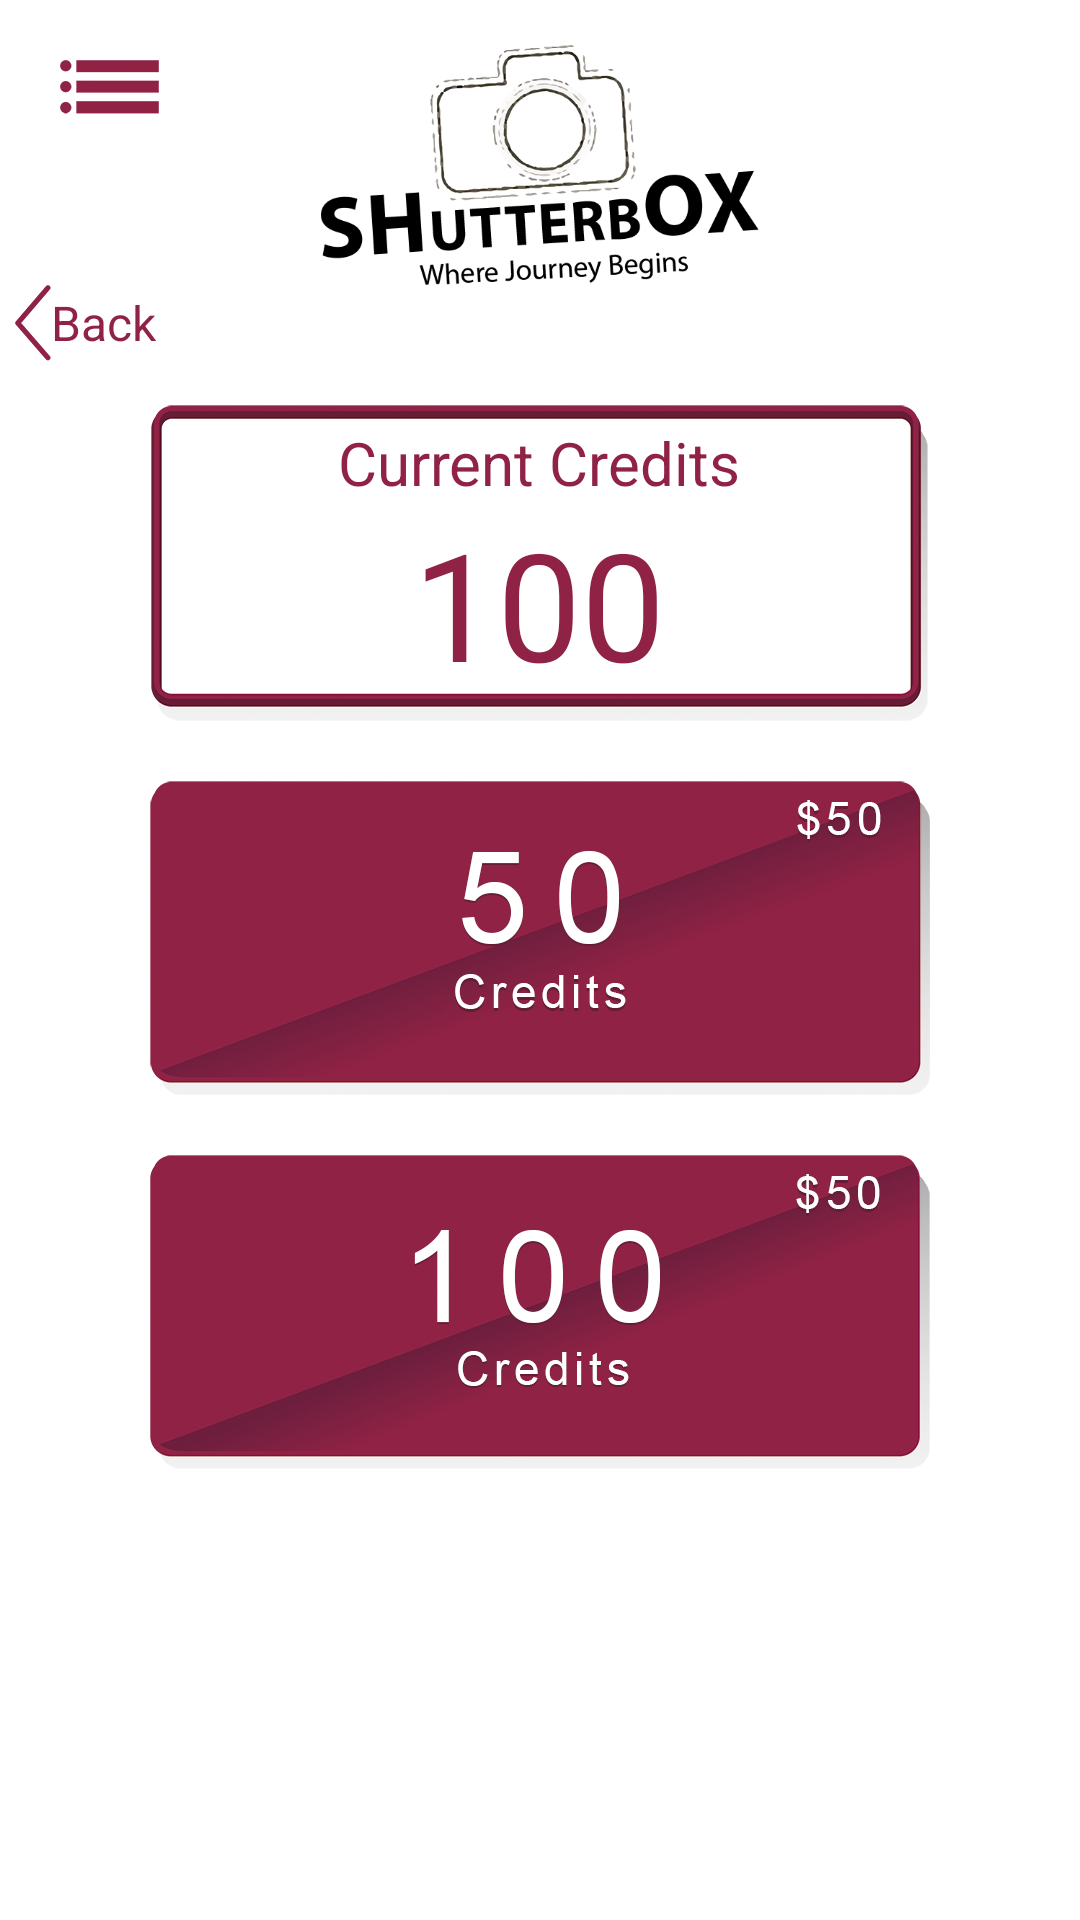

Icon bounding boxes for this 1080px x 1920px phone screenshot, format (x1, y1, x2, y2):
drawer: (60, 60, 159, 114)
